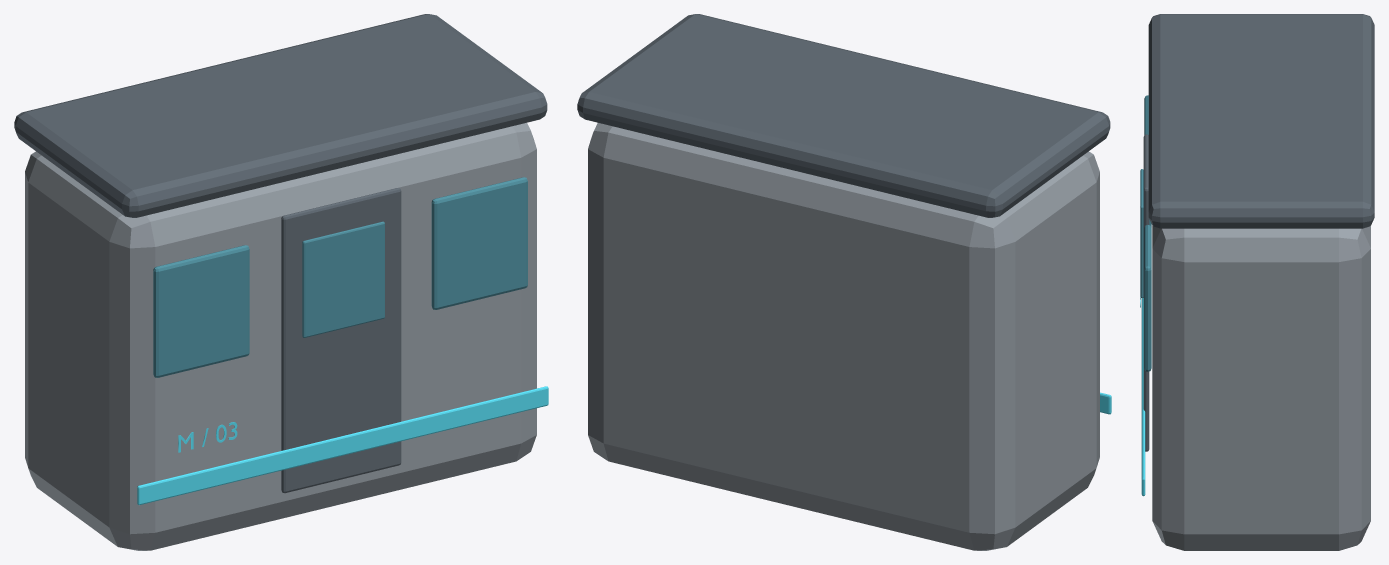
Rendered from 5_Landmark.fbx.
3 renders of one model, left to right at view 1: azimuth 30°, elevation 25°; view 2: azimuth 150°, elevation 25°; view 3: azimuth 270°, elevation 25°, orthographic. The views are drawn at different scales.
Parts seen in each view (by area): view 1: Body; view 2: Body; view 3: Body.
Boxes of the visible parts, bbox=[...] form: Body: bbox=[14, 14, 548, 550]; Body: bbox=[577, 14, 1111, 550]; Body: bbox=[1140, 14, 1374, 550].
Size of the model in its own units: 3.2 by 2.7 by 1.61.
